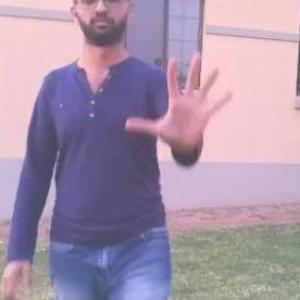follow_hand: (125, 48, 240, 152)
